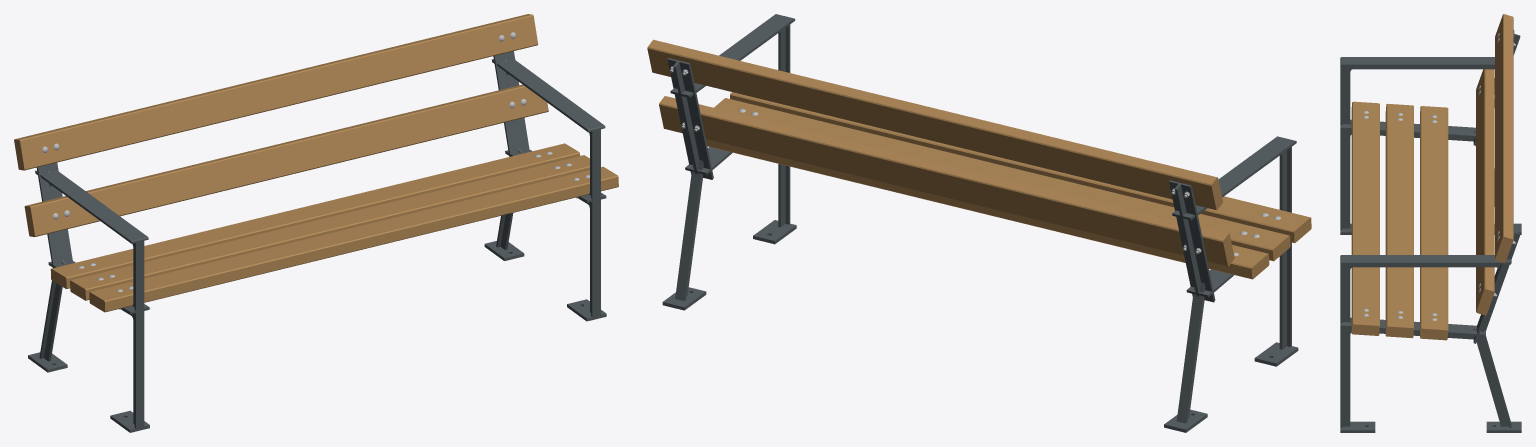
File: serra180_GRY_oak38.glb
3 views of the same model, side by side, from view 1: azimuth 30°, elevation 25°; view 2: azimuth 150°, elevation 25°; view 3: azimuth 270°, elevation 25° (orthographic). The views are drawn at different scales.
Visible parts, largest first — view 1: slat_back_2, slat_back_1, slat_seat_1, slat_seat_3, slat_seat_2, frame_left, frame_right; view 2: slat_back_2, slat_back_1, frame_left, frame_right, slat_seat_2, slat_seat_1, slat_seat_3; view 3: frame_right, slat_seat_2, slat_seat_3, slat_seat_1, frame_left, slat_back_2, slat_back_1.
Part boxes in pixels (box(x1,y1,x2,y2)): slat_back_2: box(14, 14, 538, 170); slat_back_1: box(24, 84, 548, 236); slat_seat_1: box(89, 166, 618, 312); slat_seat_3: box(50, 143, 580, 288); slat_seat_2: box(70, 155, 589, 300); frame_left: box(28, 162, 149, 432); frame_right: box(484, 51, 606, 321); slat_back_2: box(647, 39, 1222, 210); slat_back_1: box(659, 96, 1234, 266); frame_left: box(1164, 136, 1298, 432); frame_right: box(662, 14, 796, 310); slat_seat_2: box(714, 98, 1290, 261); slat_seat_1: box(730, 92, 1311, 242); slat_seat_3: box(706, 139, 1269, 279); frame_right: box(1340, 228, 1521, 432); slat_seat_2: box(1385, 103, 1413, 338); slat_seat_3: box(1420, 106, 1448, 340); slat_seat_1: box(1351, 101, 1379, 335); frame_left: box(1340, 30, 1521, 234); slat_back_2: box(1495, 14, 1513, 263); slat_back_1: box(1476, 69, 1494, 315).
Size of the model in its own units: 1.8 by 0.77 by 0.62.
